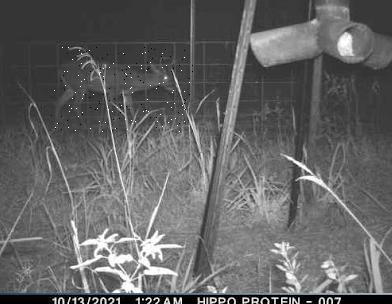Deer: (51, 47, 193, 132)
